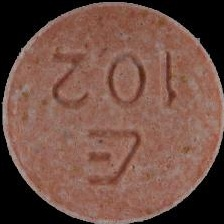0615-7918: (0, 0, 224, 224)
